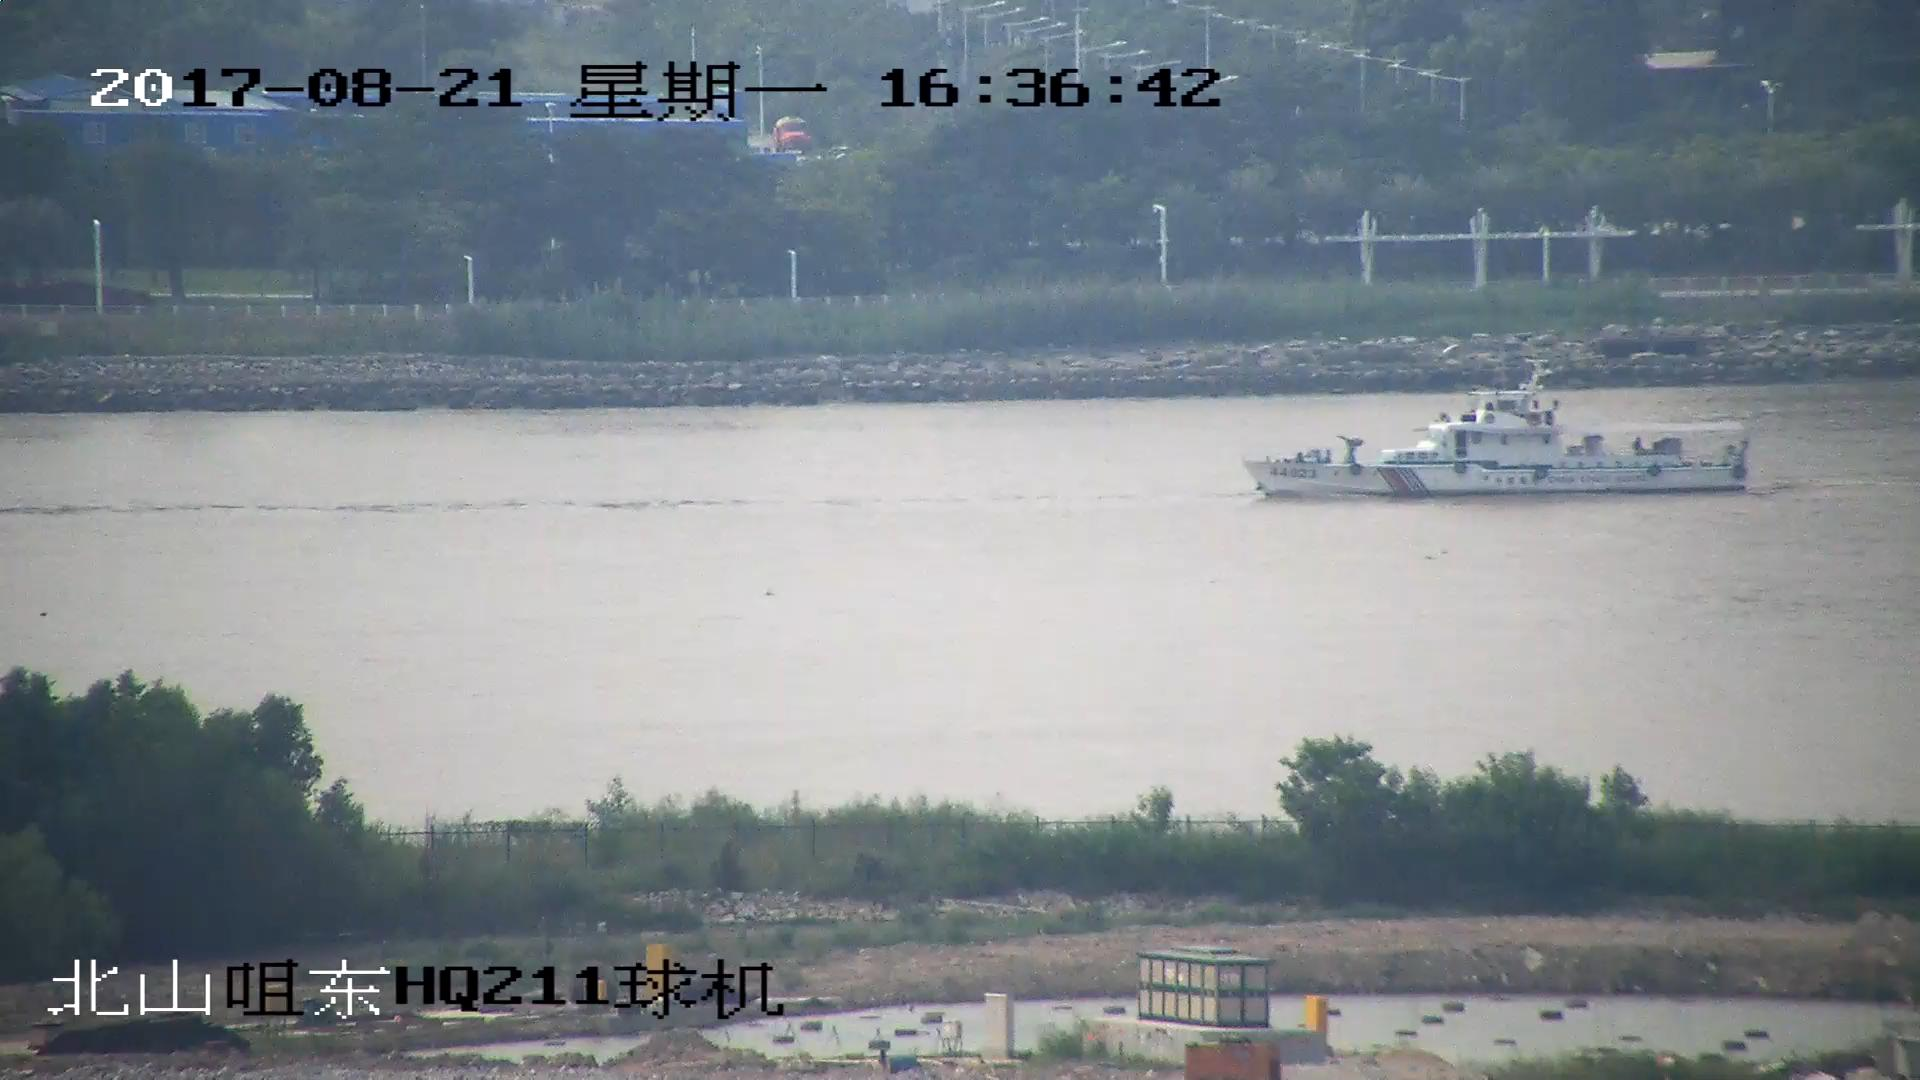passenger ship: (1242, 357, 1752, 503)
